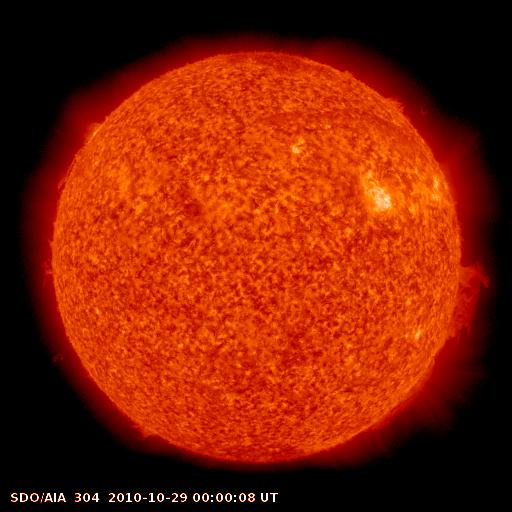prominence: (438, 254, 498, 350), (56, 112, 115, 188), (123, 408, 177, 459), (380, 84, 426, 134), (32, 231, 67, 291)
